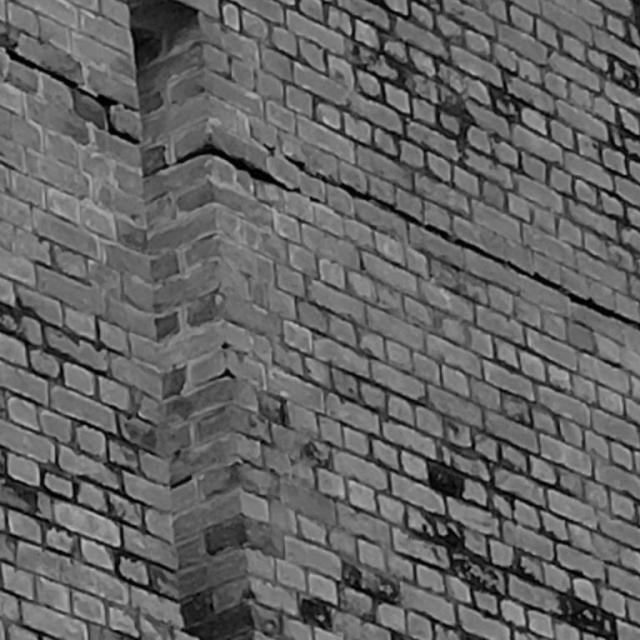crack: (249, 125, 640, 328), (1, 35, 139, 144), (142, 146, 300, 192)
